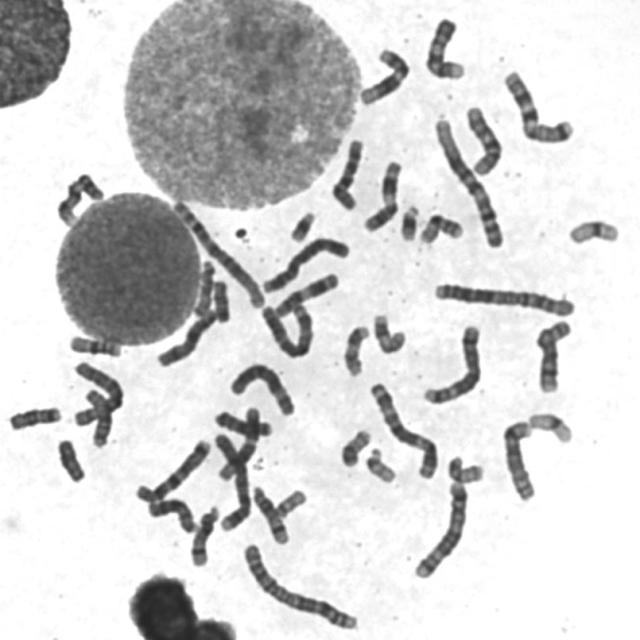A1: (166, 196, 268, 311), (430, 113, 507, 251)
A2: (238, 538, 361, 634), (428, 276, 580, 320)
A3: (365, 377, 442, 481), (257, 297, 316, 360)
B4: (257, 232, 352, 295), (209, 428, 254, 534)
B5: (410, 478, 471, 580), (419, 320, 485, 407)
C10: (461, 101, 504, 177), (328, 134, 367, 212)
C11: (268, 268, 342, 320), (359, 155, 405, 235)
C12: (213, 402, 264, 482), (356, 43, 412, 108)
C6: (227, 358, 298, 418), (68, 357, 128, 428)
C7: (499, 65, 577, 146), (132, 435, 214, 505)
C8: (498, 416, 539, 504), (532, 315, 575, 396)
C9: (51, 168, 106, 228), (422, 12, 468, 82)
D13: (144, 495, 199, 536), (211, 407, 274, 439)
D14: (247, 481, 292, 546), (186, 500, 223, 568)
D15: (81, 384, 115, 450), (191, 256, 218, 318)
E16: (415, 209, 466, 247), (64, 330, 124, 359)
E17: (369, 309, 409, 356), (340, 321, 372, 379)
E18: (4, 402, 64, 433), (208, 275, 233, 325)
F19: (524, 408, 576, 446), (564, 214, 622, 247)
F20: (336, 424, 374, 469), (444, 451, 487, 484)
G21: (285, 207, 319, 244), (396, 201, 421, 244)
G22: (362, 443, 399, 486), (274, 488, 308, 518)
X: (152, 306, 219, 369)
Y: (52, 434, 88, 484)
